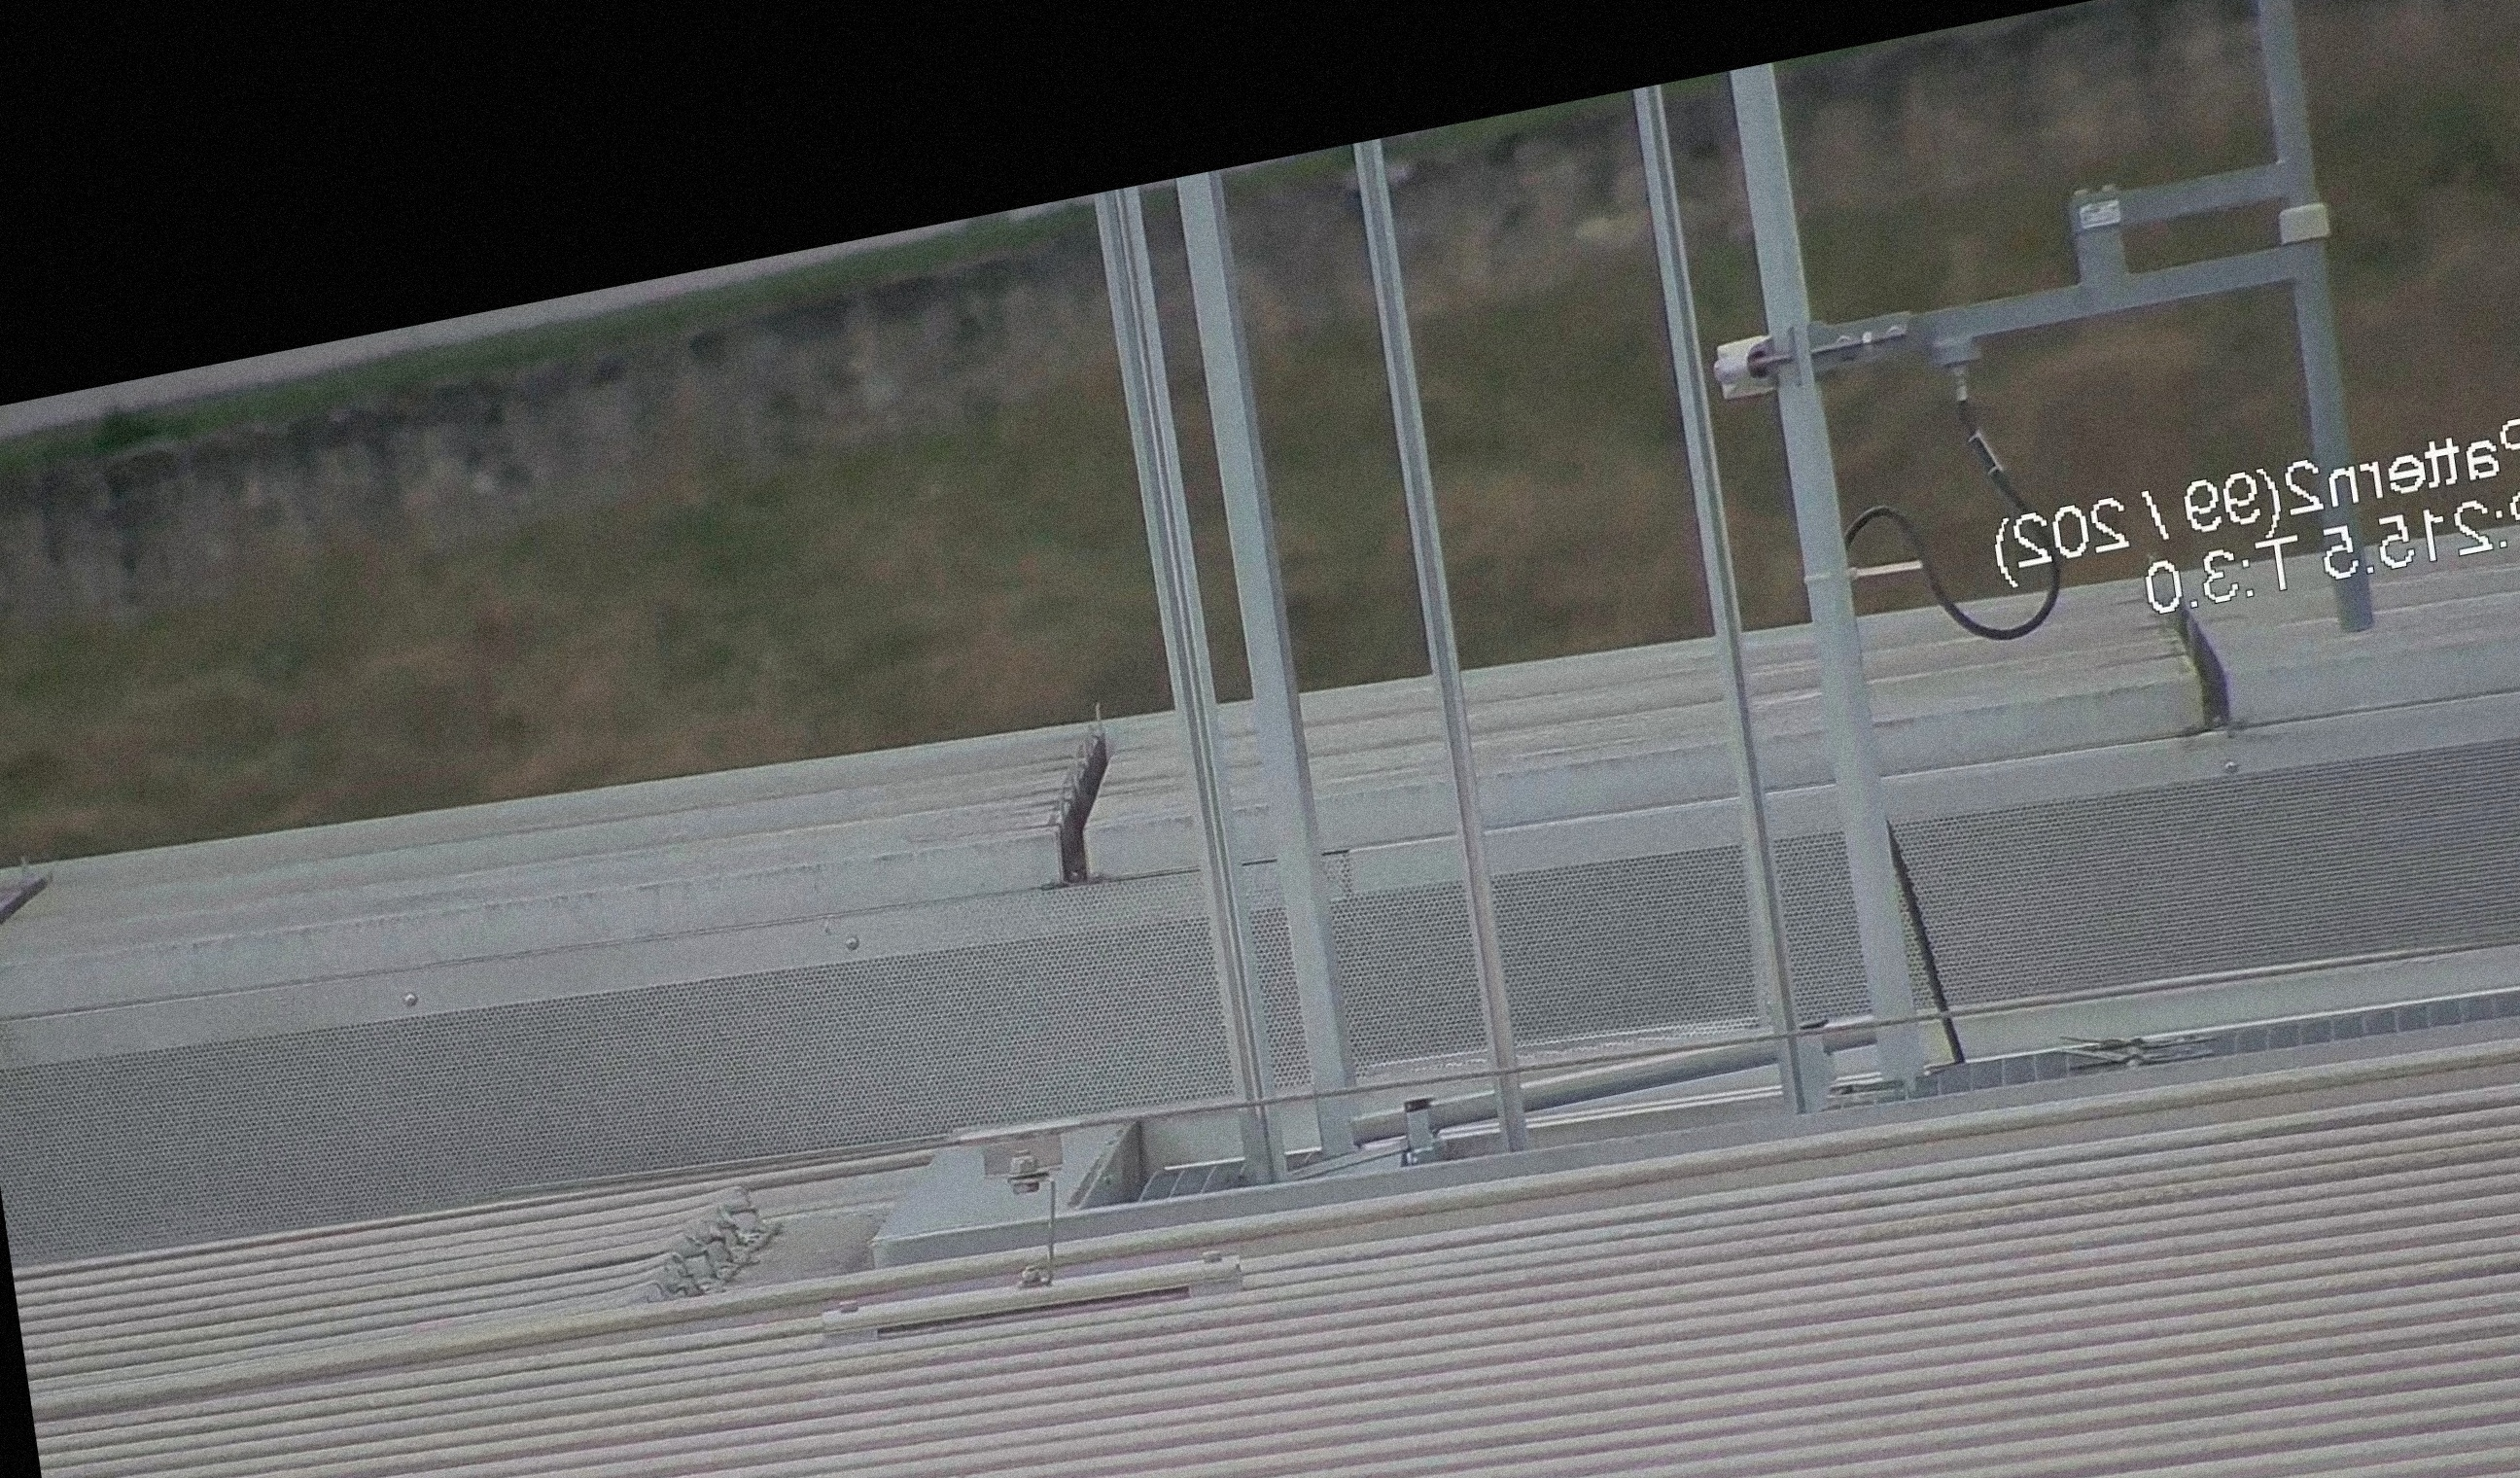Other: (999, 690, 1150, 899)
